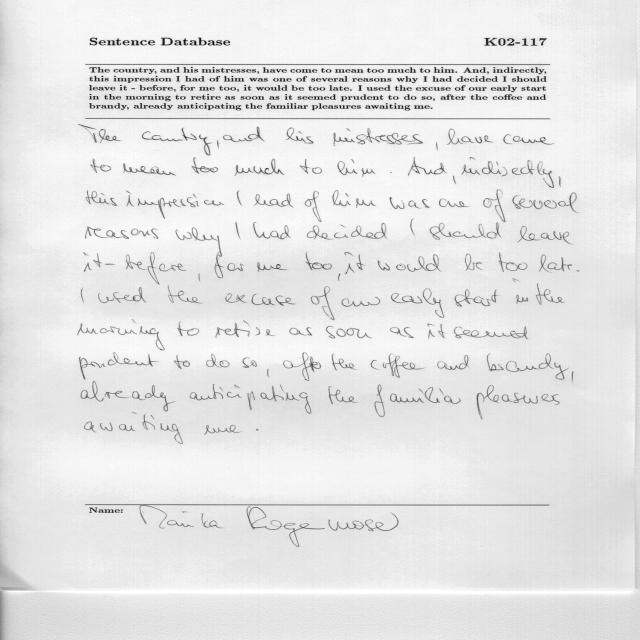word: (81, 382, 175, 421), (190, 384, 312, 414), (461, 157, 554, 188), (374, 384, 461, 417), (126, 190, 224, 219), (477, 385, 560, 419), (78, 320, 165, 351), (80, 352, 157, 382), (84, 421, 183, 444), (487, 353, 569, 380), (176, 227, 225, 270), (126, 252, 186, 285), (142, 128, 212, 155), (333, 128, 423, 146), (391, 288, 444, 318), (513, 192, 579, 213), (307, 223, 387, 240), (371, 353, 424, 378), (430, 222, 501, 240), (377, 254, 441, 272), (216, 320, 276, 338), (283, 353, 321, 381), (517, 226, 572, 244), (454, 327, 529, 340), (390, 197, 430, 221), (86, 226, 159, 239), (226, 293, 296, 306), (499, 252, 528, 282), (234, 159, 284, 176), (79, 125, 122, 144), (311, 287, 335, 321), (332, 190, 376, 208), (455, 289, 498, 307), (98, 287, 146, 303), (447, 129, 494, 145), (409, 157, 447, 176), (484, 190, 506, 222), (123, 163, 176, 176), (338, 159, 375, 177), (253, 222, 291, 239), (223, 127, 265, 142), (168, 286, 202, 304), (536, 284, 565, 305), (539, 255, 572, 273), (503, 134, 554, 145), (254, 194, 294, 208), (326, 326, 372, 338), (305, 191, 322, 222), (329, 386, 358, 404), (86, 190, 117, 206), (305, 252, 332, 270), (437, 355, 469, 370), (345, 253, 366, 275), (286, 127, 313, 144), (191, 157, 218, 174), (215, 263, 244, 278), (332, 354, 356, 370), (342, 297, 380, 307), (204, 425, 241, 435), (84, 252, 102, 272), (300, 159, 322, 174), (257, 262, 288, 272), (177, 322, 199, 336), (427, 323, 446, 339), (91, 158, 111, 173), (207, 354, 230, 367), (465, 254, 482, 271), (390, 327, 414, 338), (439, 199, 469, 207), (174, 355, 190, 369), (289, 327, 312, 336), (242, 357, 257, 368), (516, 295, 528, 304), (237, 191, 242, 206), (410, 222, 415, 235), (236, 222, 240, 238), (81, 288, 84, 303), (453, 176, 456, 184), (559, 176, 561, 187), (572, 371, 574, 382), (217, 140, 219, 148), (436, 142, 438, 150), (198, 274, 200, 282), (267, 369, 269, 377), (338, 274, 340, 281), (104, 264, 115, 265), (577, 270, 580, 272), (256, 429, 259, 431), (390, 172, 392, 173)
